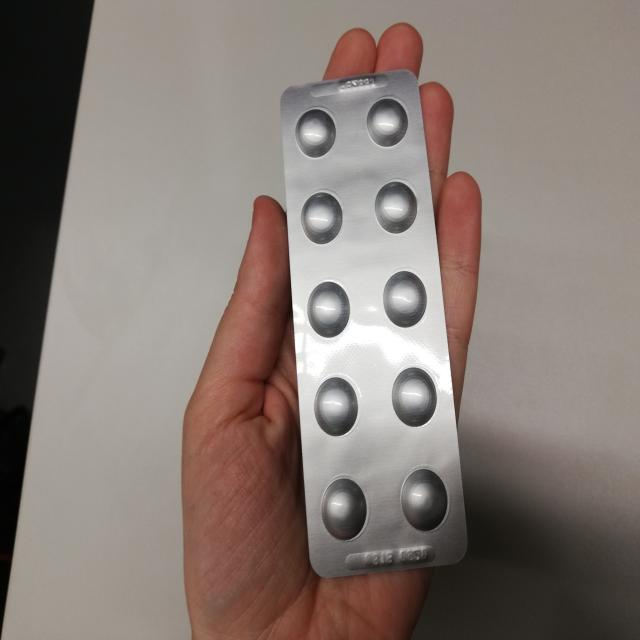Pill: (286, 102, 346, 165), (400, 461, 449, 537), (298, 278, 356, 342), (388, 361, 440, 432), (378, 266, 432, 332), (310, 372, 361, 439), (294, 189, 350, 248), (319, 474, 366, 543), (361, 94, 415, 154), (372, 176, 421, 239)
